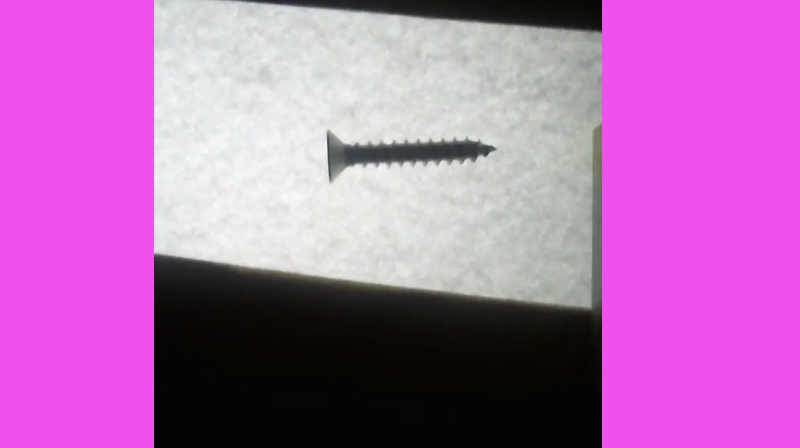S001: (322, 128, 499, 182)
